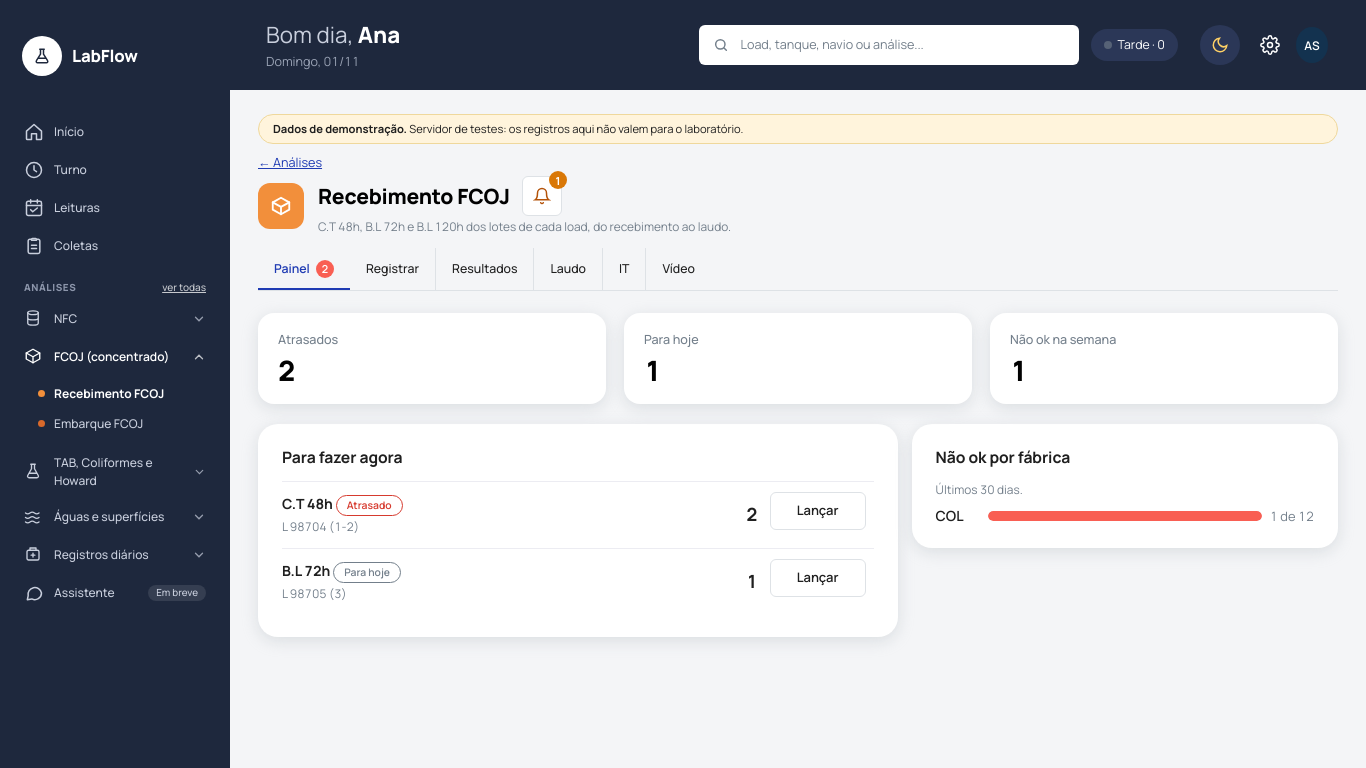
Recebimento FCOJ como app (Fase E, E2) › o painel mostra atrasados, o que fazer agora e o não ok por fábrica
The image size is (1366, 768).
Expected: the heading "Recebimento FCOJ" is shown, [318,184,510,209]
Expected: the text "L 98704 (1-2)" is shown, [282,518,359,535]
Step 1. Click the button named "Em observação: 1 aviso" → (542,196), box [522,176,562,216]
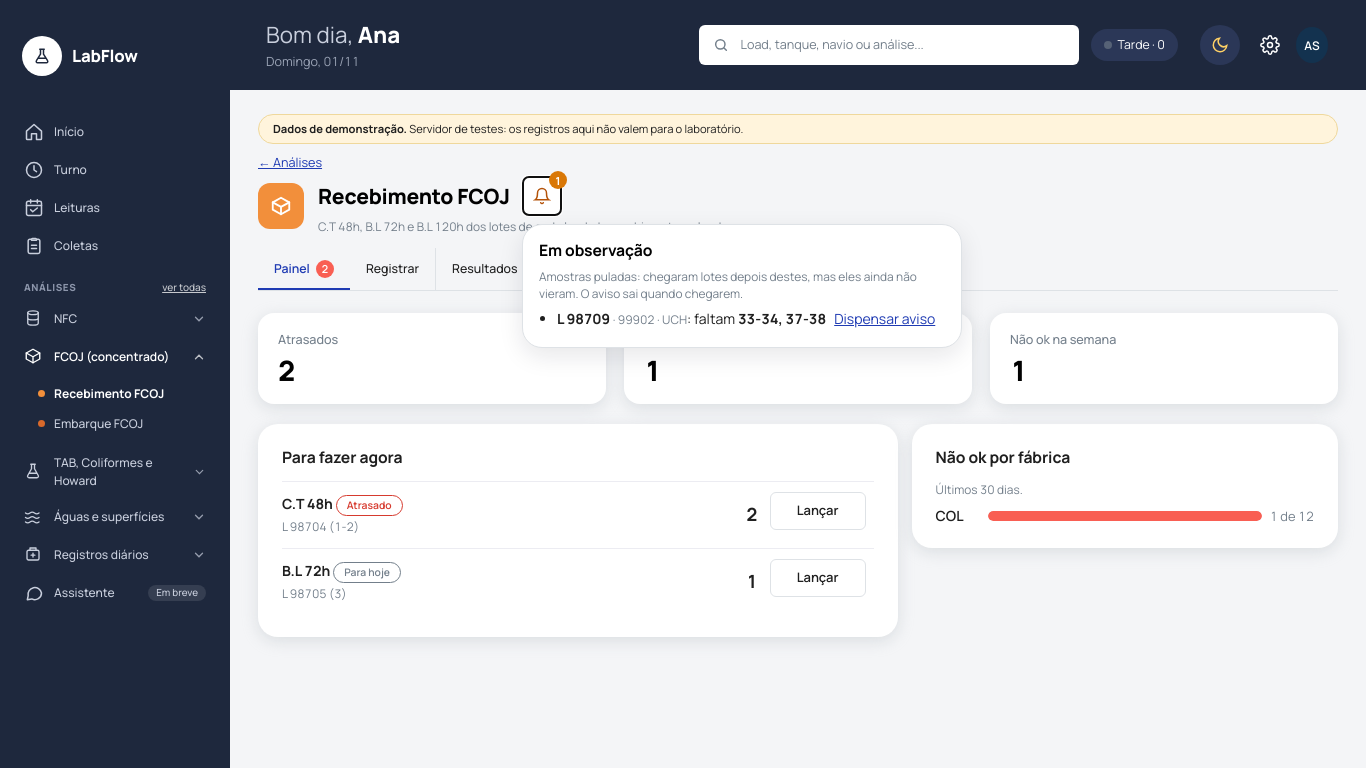
Now the text "33-34, 37-38" is shown, box [738,309,826,328]
